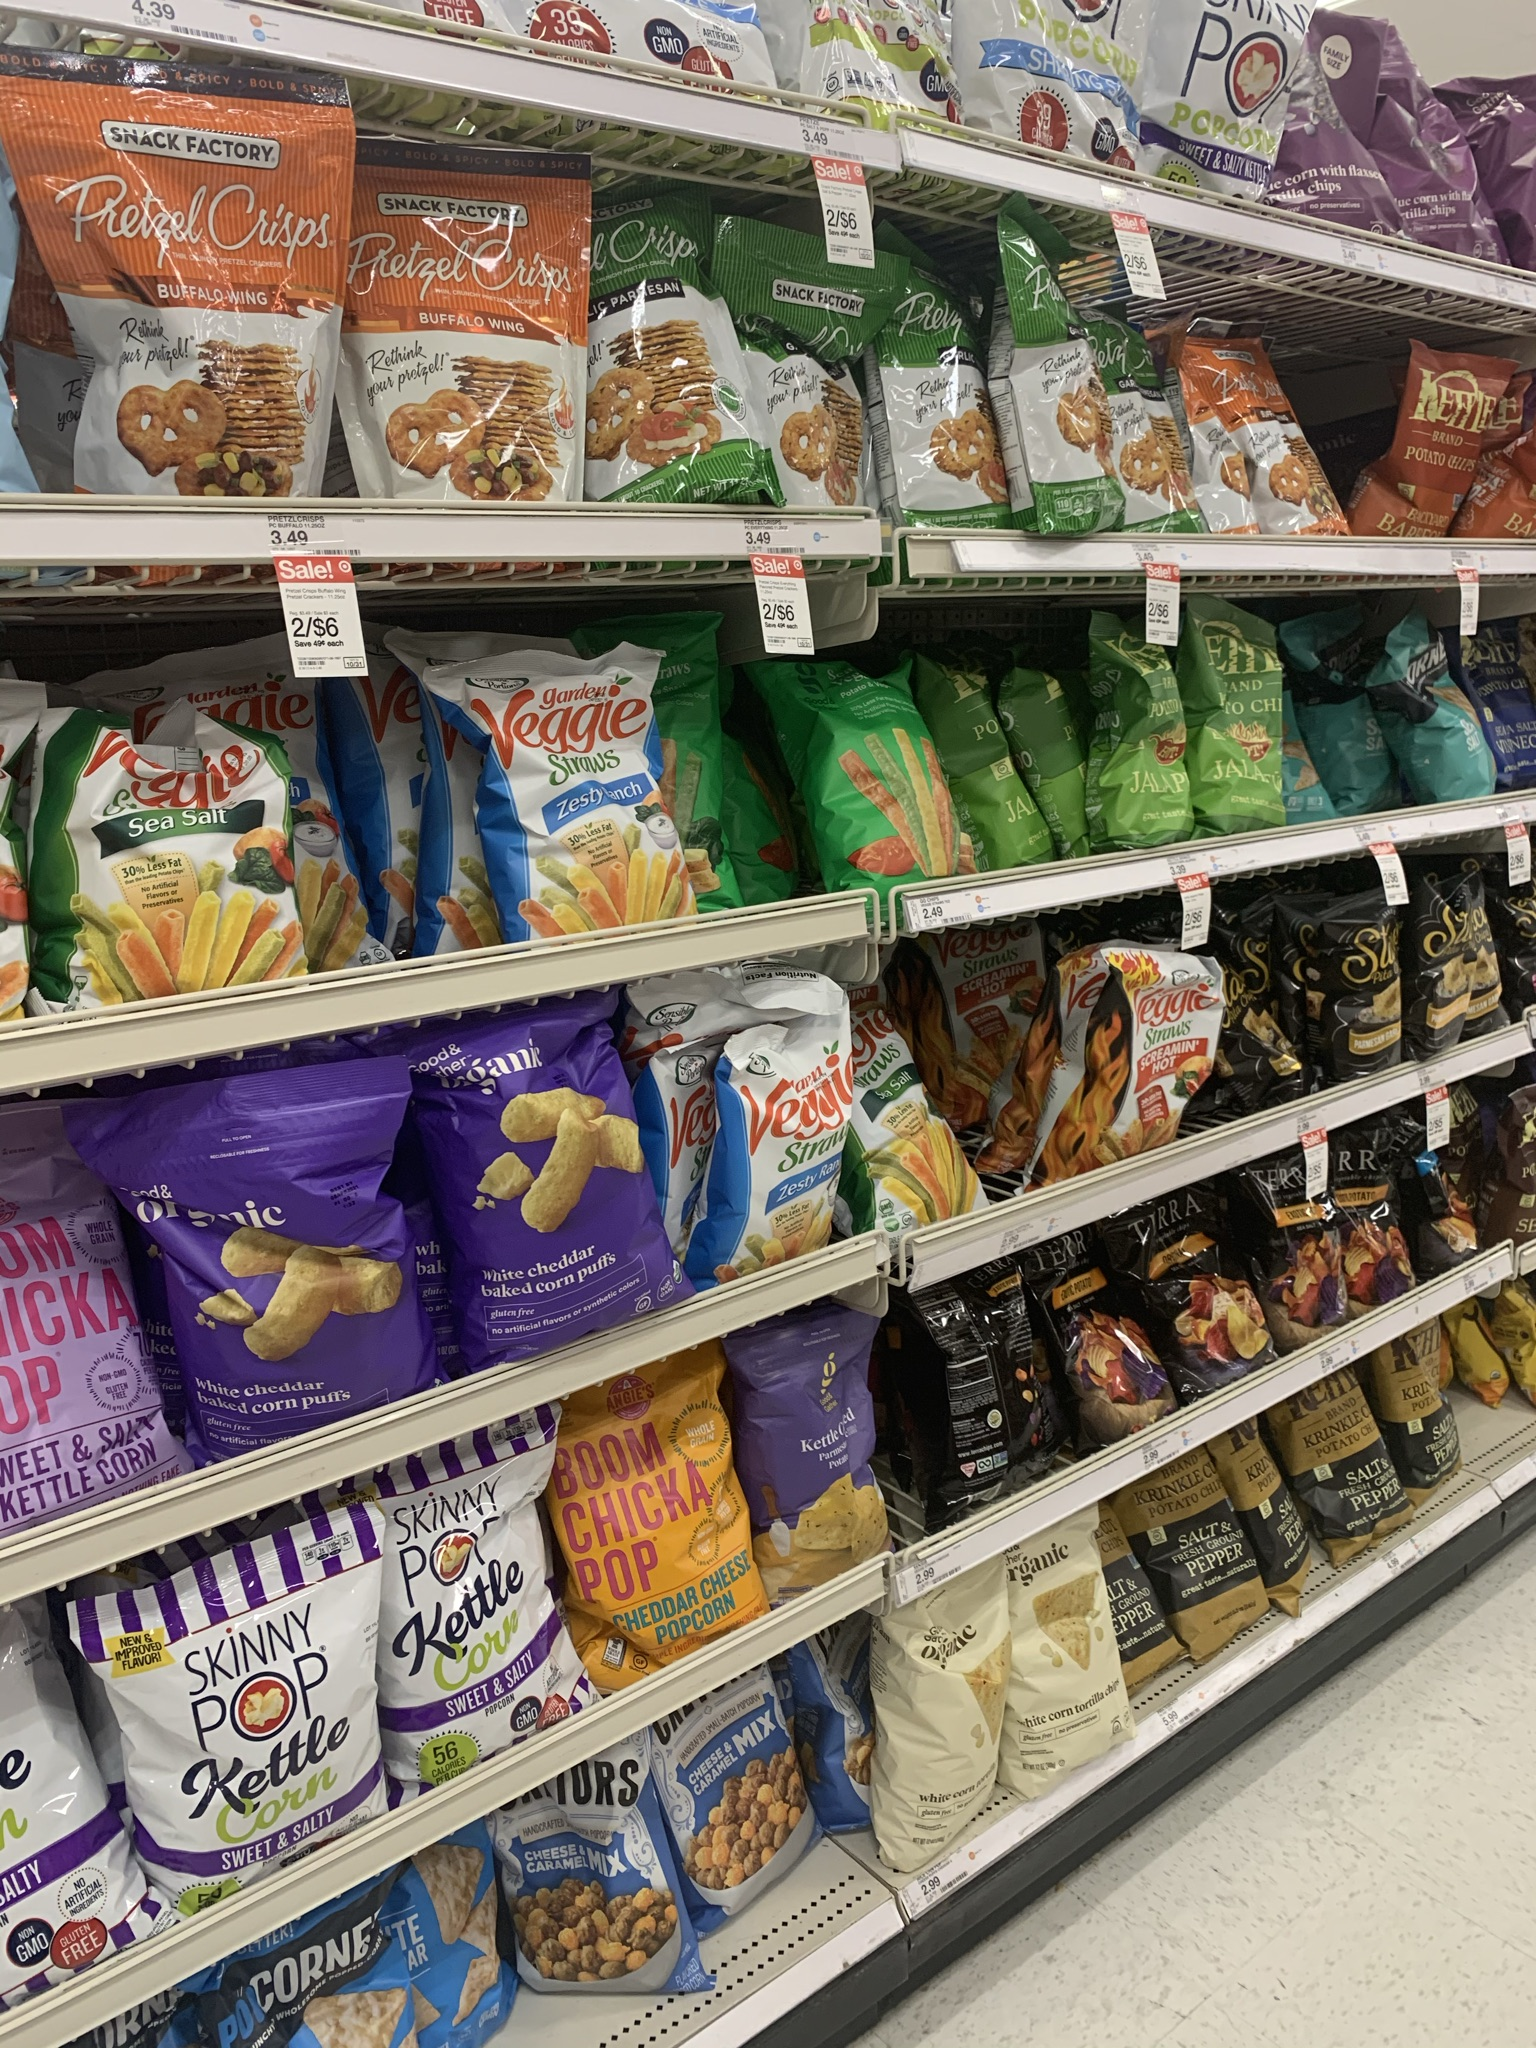chip: (10, 74, 324, 493), (73, 1092, 428, 1434), (336, 147, 584, 490), (432, 639, 679, 939), (431, 1039, 673, 1340), (50, 722, 298, 1001), (566, 202, 763, 502), (720, 1334, 908, 1587), (720, 221, 883, 510), (694, 1005, 852, 1285), (774, 664, 960, 893), (866, 247, 1008, 522), (1176, 321, 1355, 539), (1039, 930, 1179, 1188), (1005, 232, 1118, 539), (1171, 597, 1284, 826), (1097, 622, 1191, 843)
